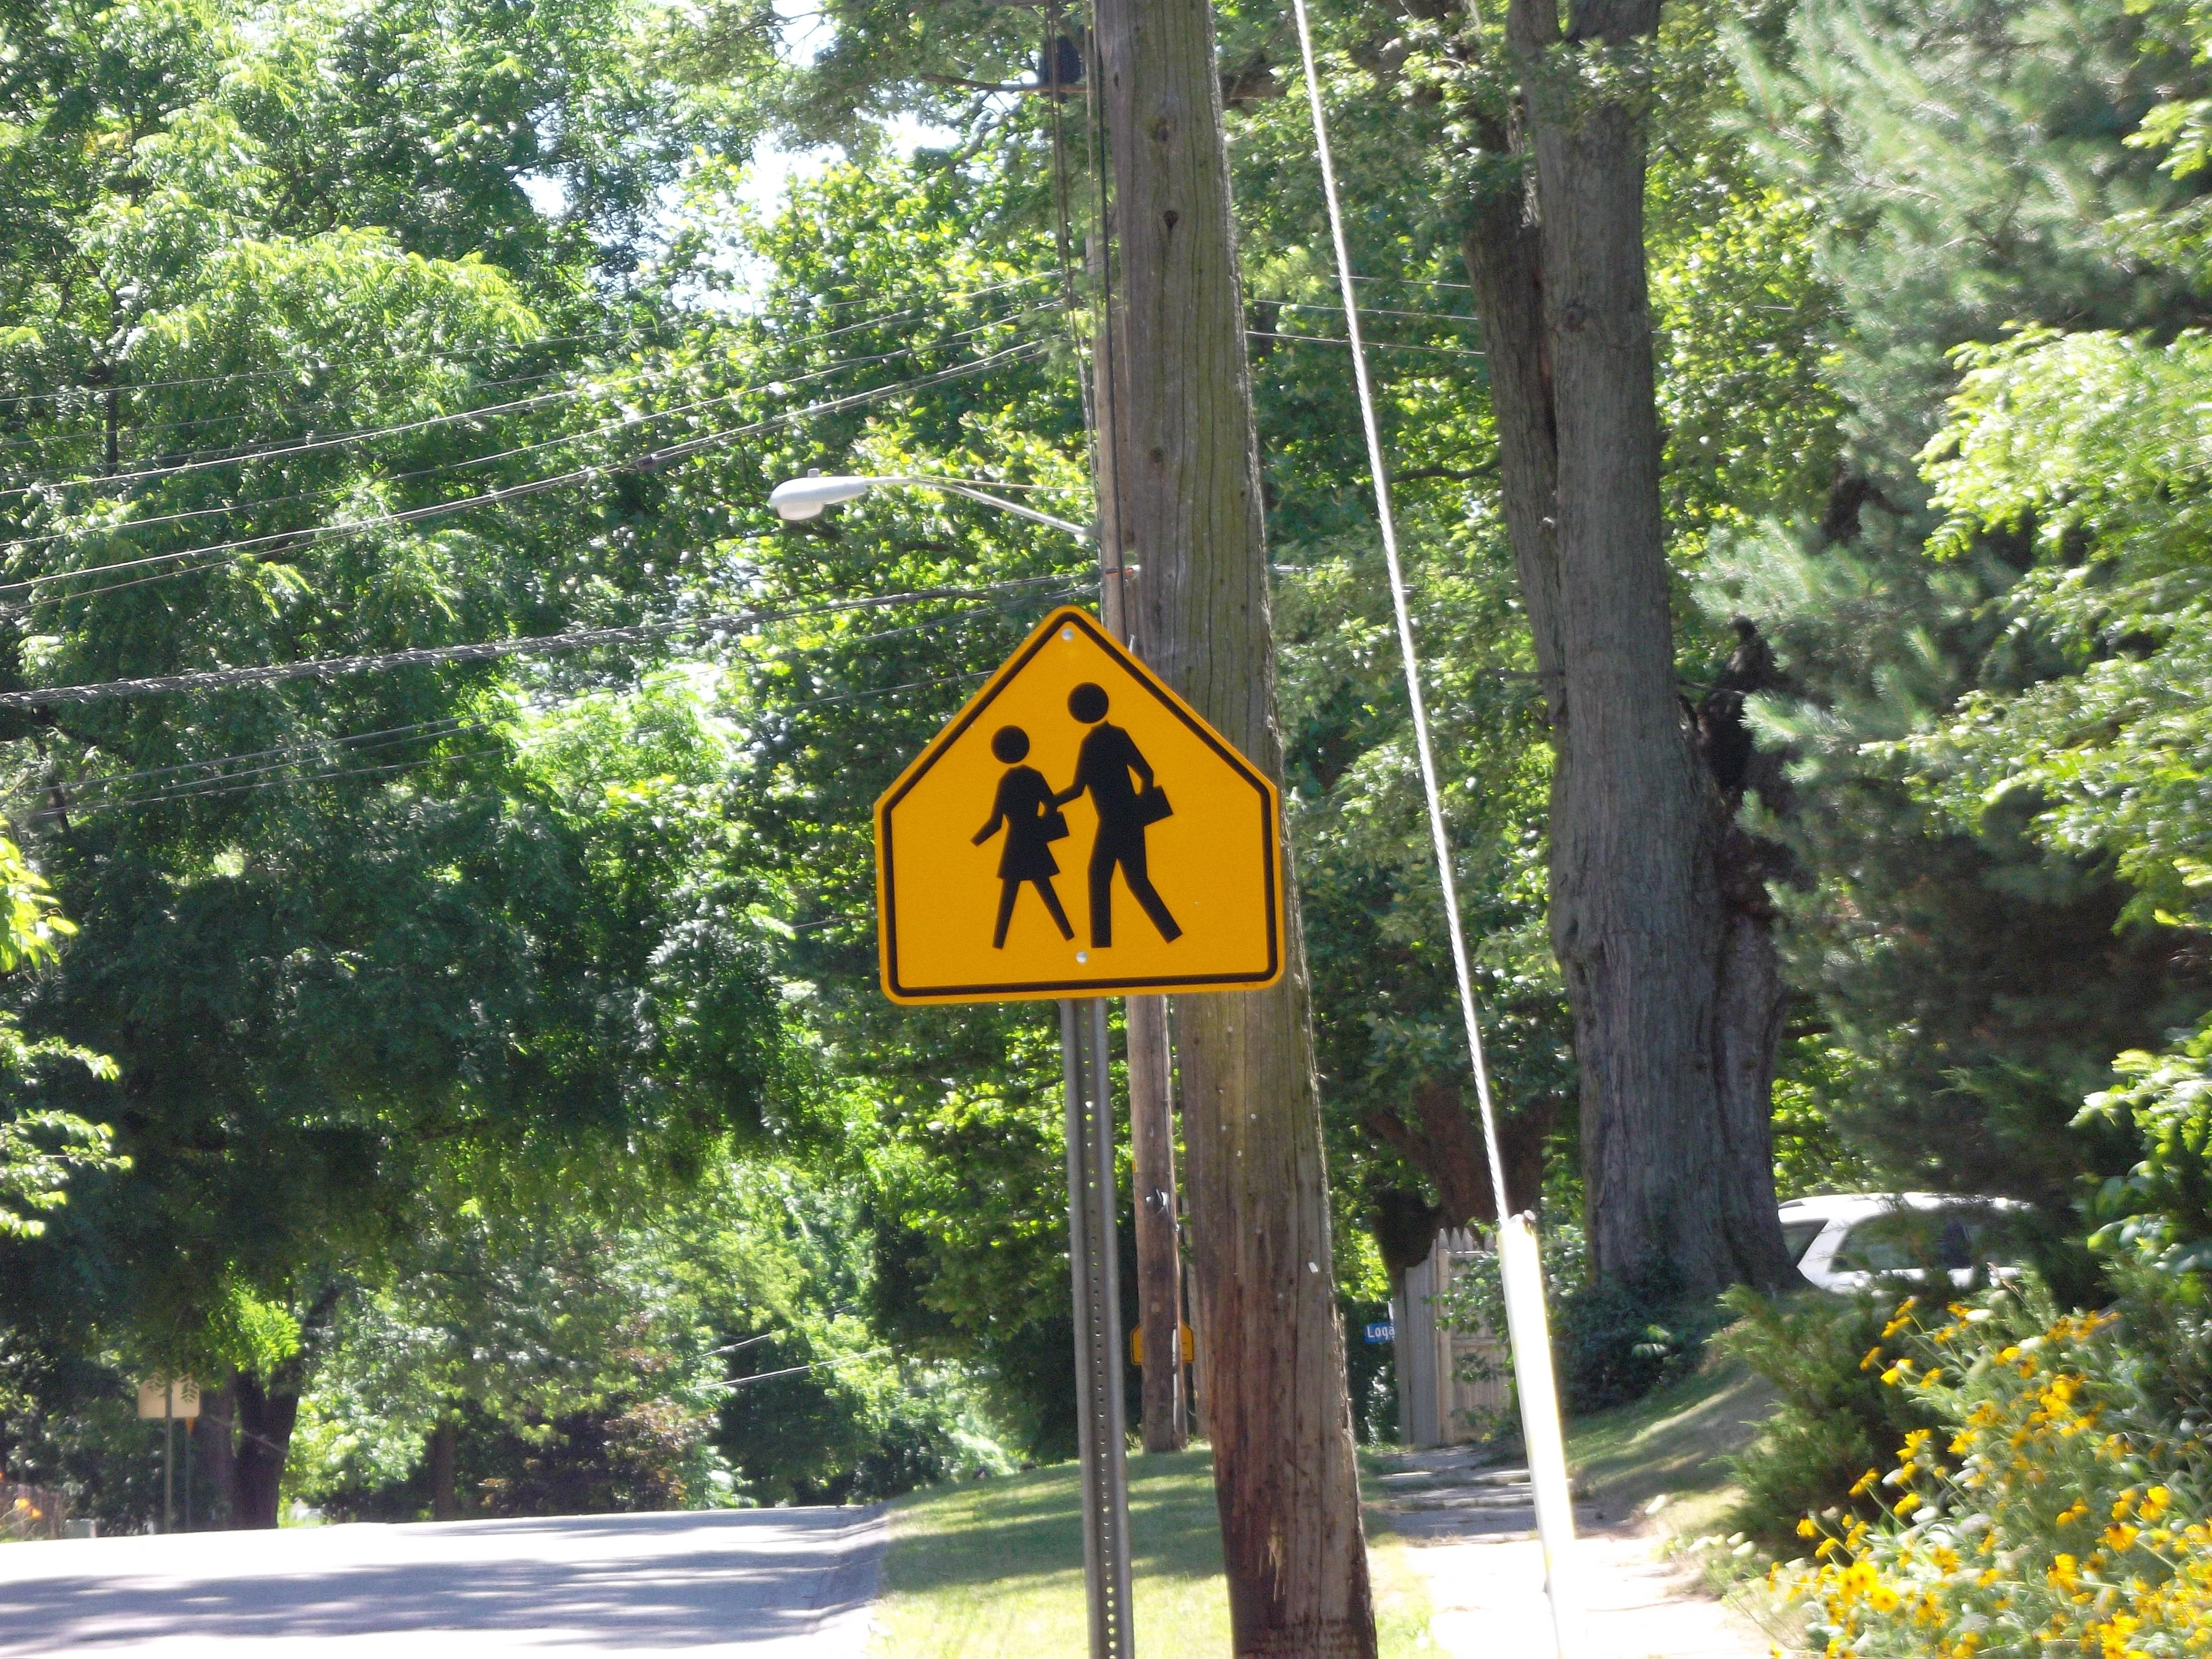warning: (876, 592, 1287, 1026)
